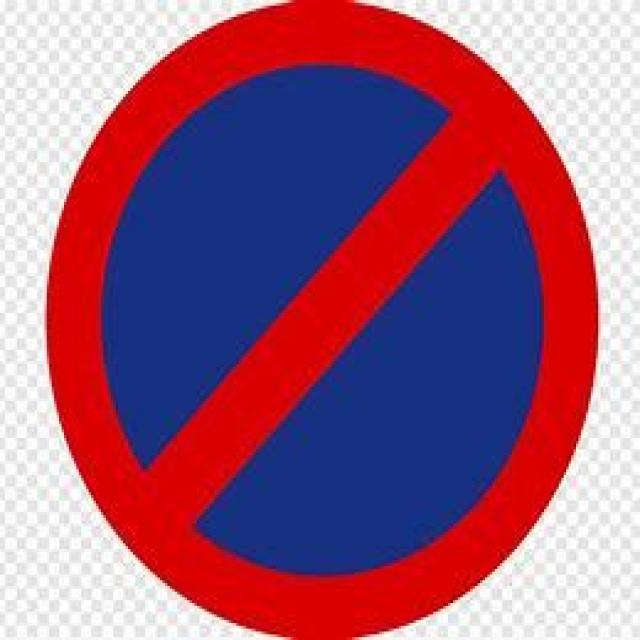NO_PARKING: (44, 0, 596, 637)
